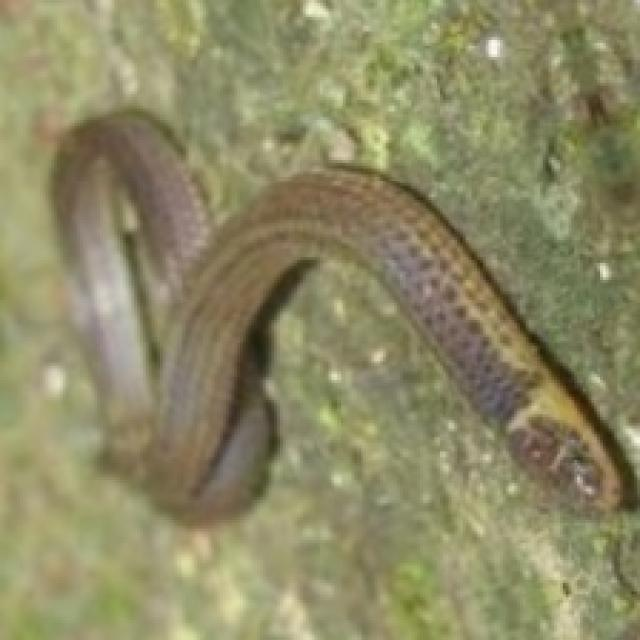gervais worm snake: (51, 111, 634, 523)
